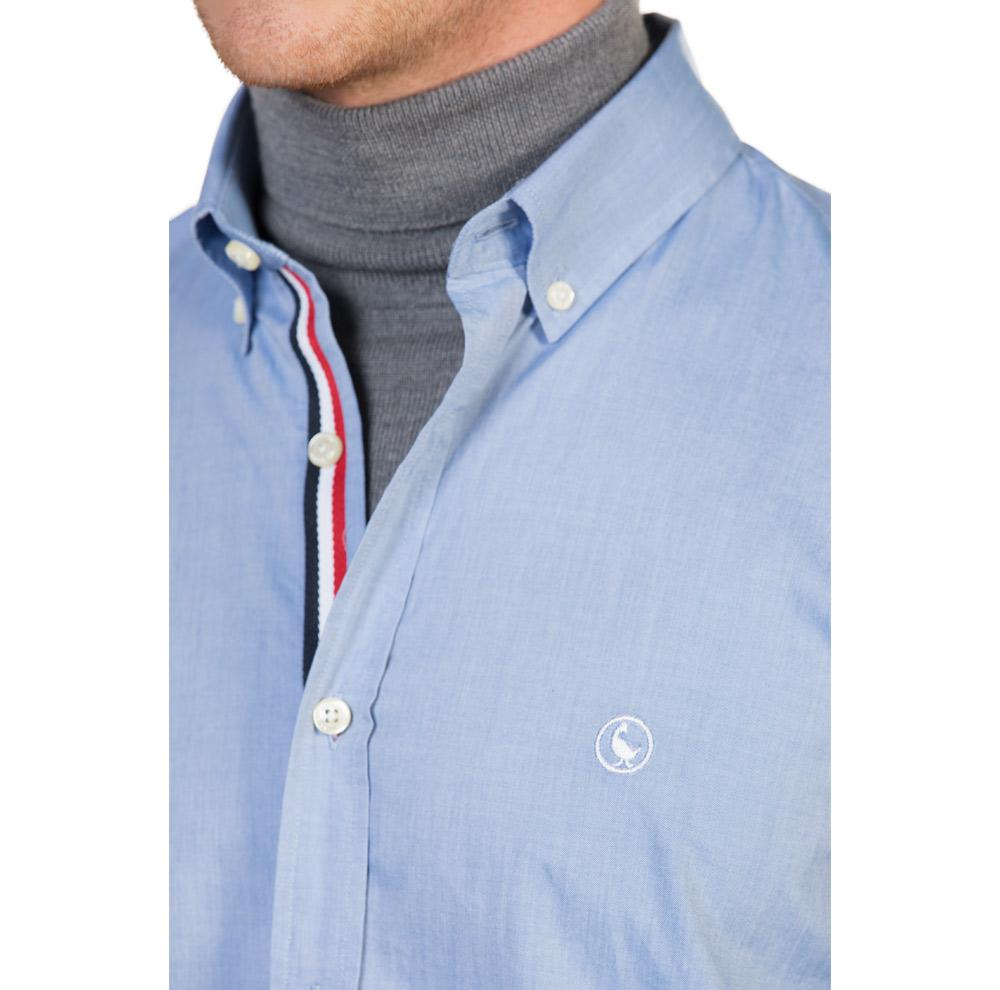teeshirt: (132, 13, 862, 990)
